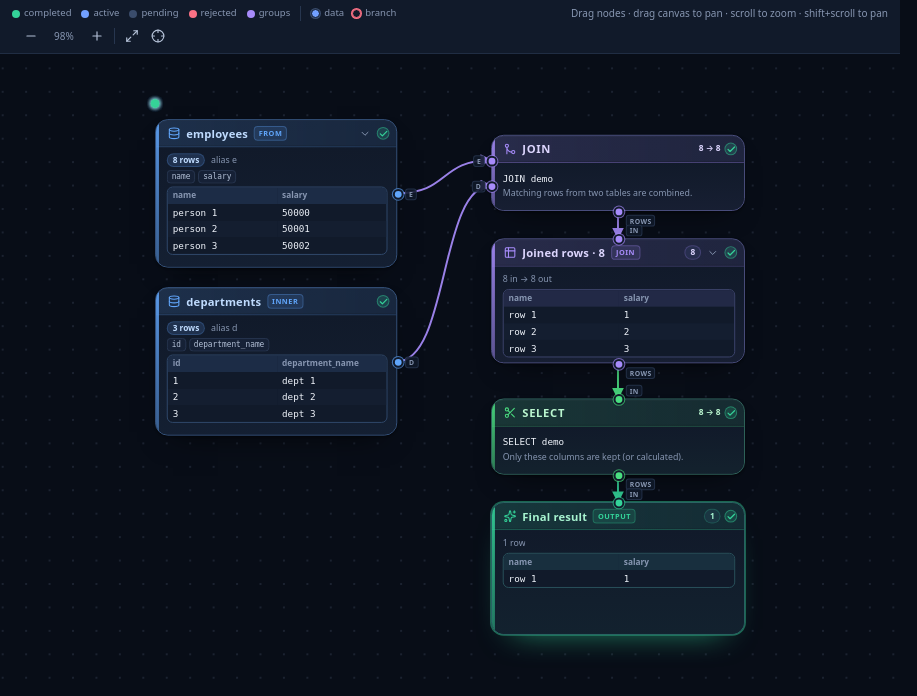
Test: FlowCanvas › animates every incoming branch when a JOIN is hovered
The image size is (917, 696).
Step 1. Hover over the button with aria-label "Operation JOIN" → (618, 173), box [491,135,745,211]
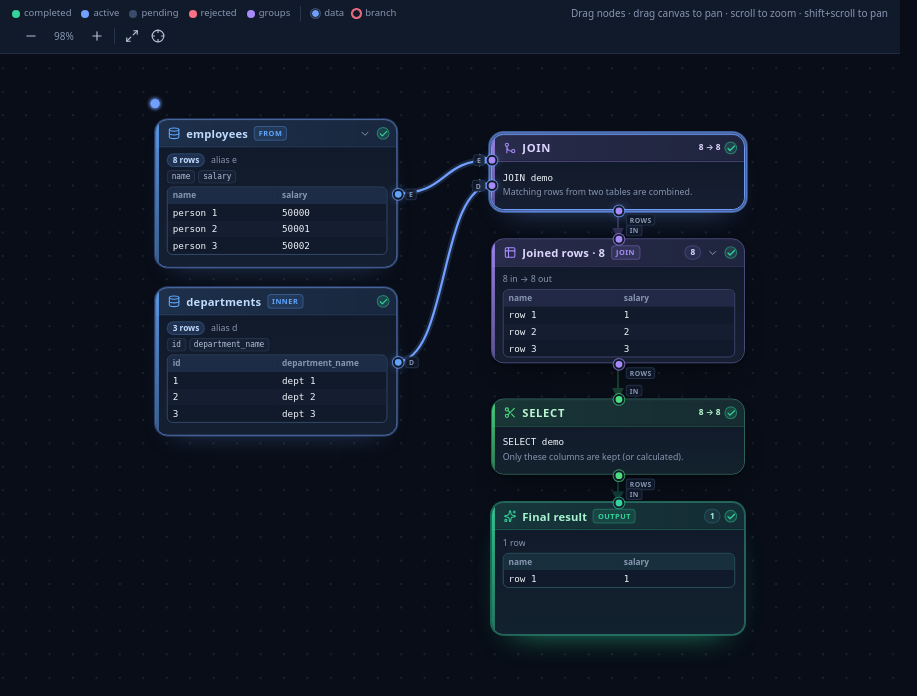
Check: the button with aria-label "Source table employees" has attribute data-upstream="true", box [155,119,397,268]
